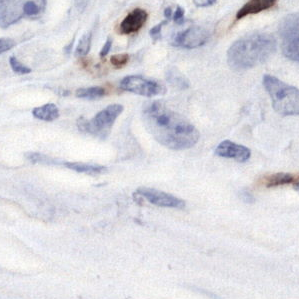Lymphocyte: (120, 8, 149, 34)
